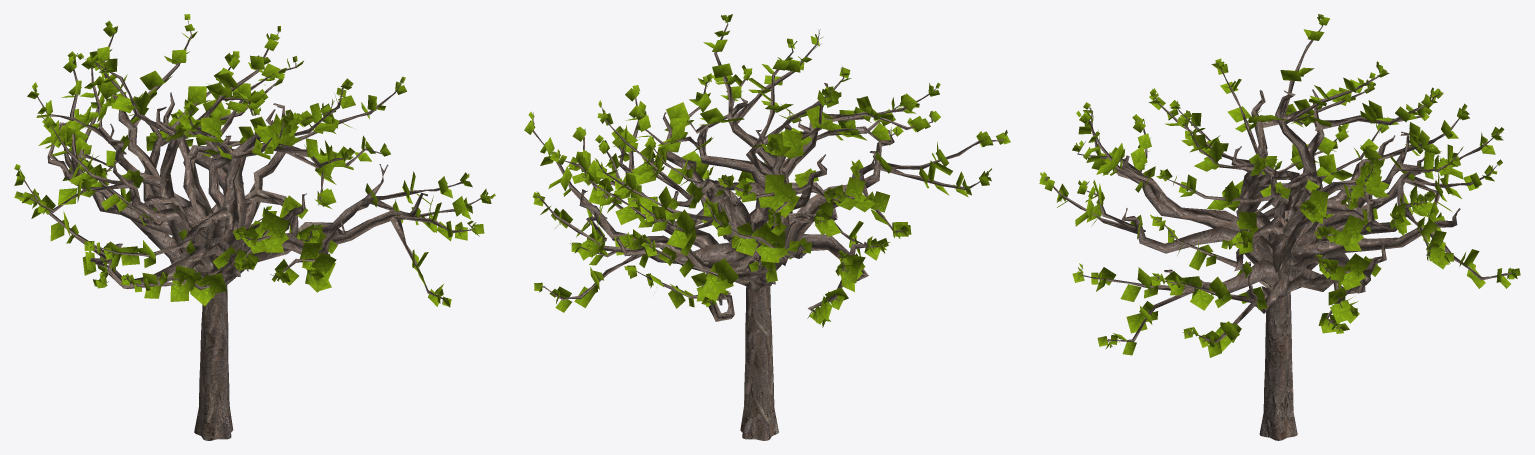
Rendered from cooltree1.obj.
3 views of the same model, side by side, from view 1: azimuth 30°, elevation 25°; view 2: azimuth 150°, elevation 25°; view 3: azimuth 270°, elevation 25° (orthographic). The views are drawn at different scales.
Parts seen in each view (by area): view 1: leaf oak, bark04; view 2: bark04, leaf oak; view 3: leaf oak, bark04.
Boxes of the visible parts, bbox=[...] form: leaf oak: bbox=[16, 17, 492, 440]; bark04: bbox=[14, 14, 495, 307]; bark04: bbox=[524, 14, 1010, 327]; leaf oak: bbox=[532, 22, 1007, 440]; leaf oak: bbox=[1041, 14, 1517, 440]; bark04: bbox=[1039, 14, 1520, 357].
Bounding box in the file's own units: 194 × 178 × 207.
Materials: 2 (2 with a texture image).
